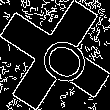O_NW: (22, 23, 88, 87)
